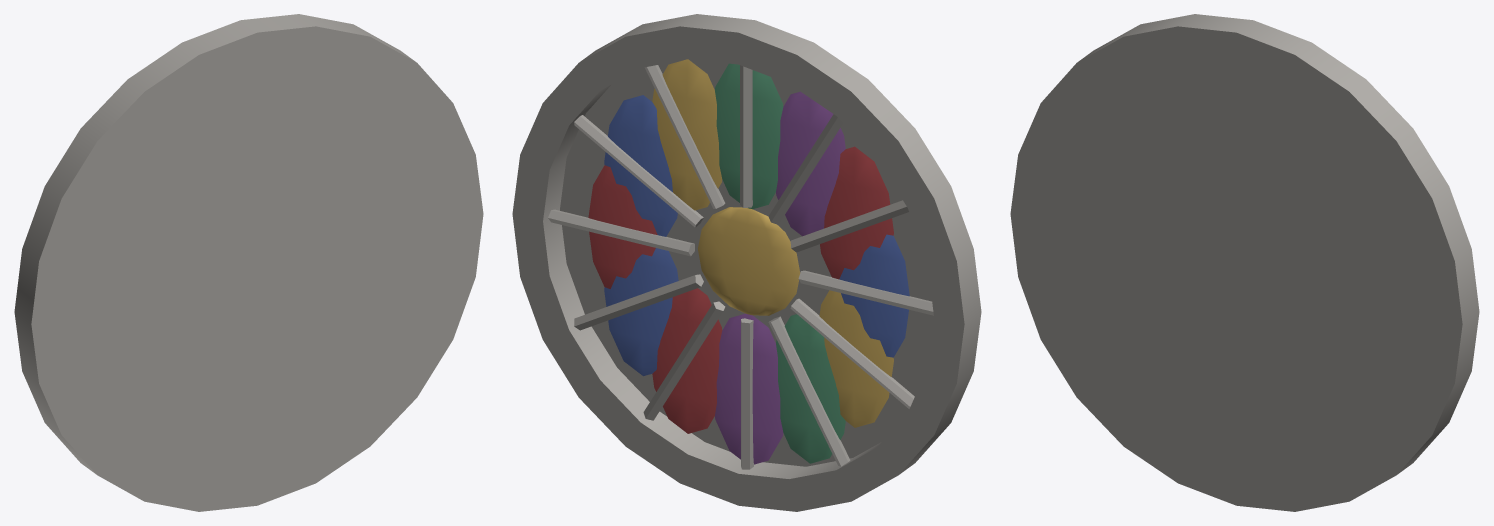
File: chapel_rose.gltf
The picture shows the model from 3 angles, left to right: view 1: azimuth 30°, elevation 25°; view 2: azimuth 150°, elevation 25°; view 3: azimuth 330°, elevation 25°; orthographic projection.
Parts seen in each view (by area): view 1: Body; view 2: Body; view 3: Body.
Boxes of the visible parts, left/top/right/bottom form: Body: left=14, top=14, right=483, bottom=511; Body: left=512, top=14, right=981, bottom=511; Body: left=1010, top=14, right=1479, bottom=511.
Bounding box in the file's own units: 3.7 × 3.7 × 0.24.
